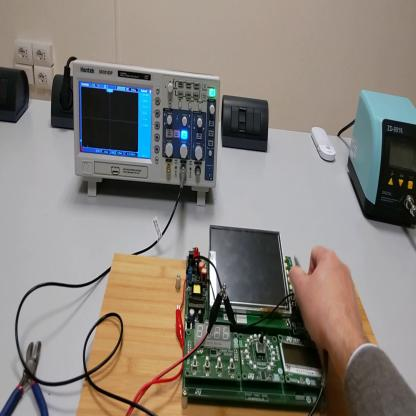hand: (291, 246, 365, 359)
low voltage board: (182, 227, 329, 411)
oscilloscope: (73, 59, 222, 205)
oscilloscope probe tip: (293, 261, 328, 391)
pliers: (3, 340, 48, 414)
socket: (1, 65, 32, 125), (54, 73, 75, 130)
welder station: (348, 91, 415, 228)
working area: (76, 255, 379, 415)
